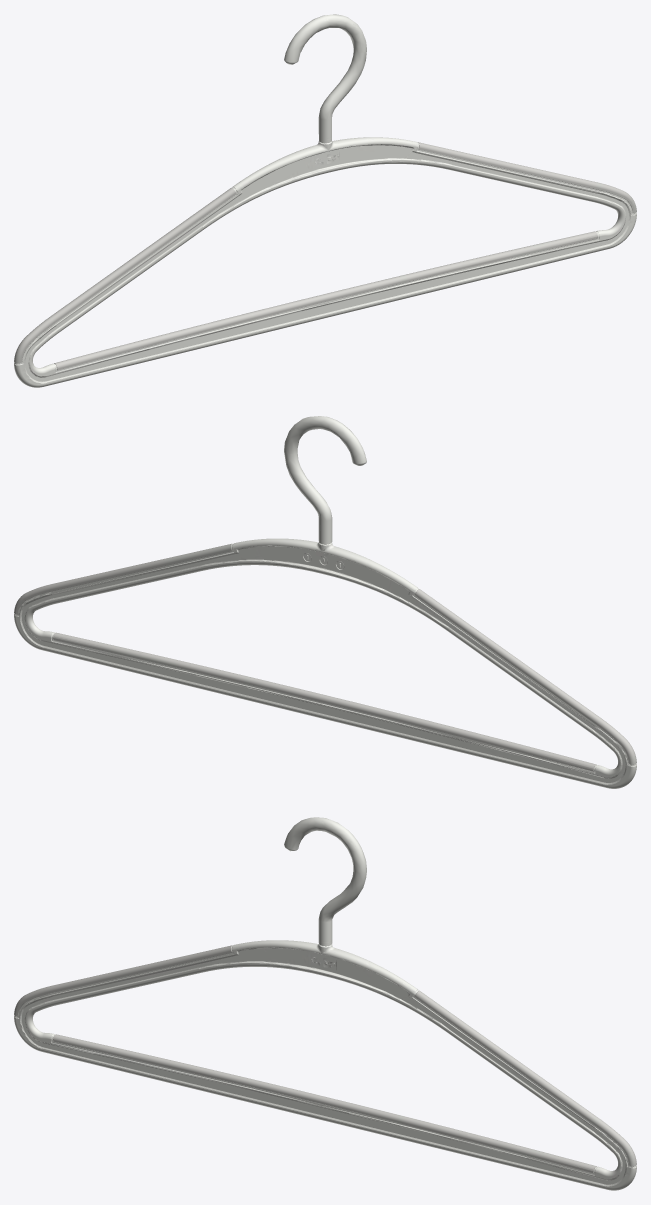
The model's file is trysse_wieszak_10515070.glb.
3 renders of one model, top to bottom at view 1: azimuth 30°, elevation 25°; view 2: azimuth 150°, elevation 25°; view 3: azimuth 330°, elevation 25°, orthographic.
Visible parts, largest first — view 1: trysse_wieszak_10515070; view 2: trysse_wieszak_10515070; view 3: trysse_wieszak_10515070.
Boxes of the visible parts, box(x1,y1,x2,y2) form: trysse_wieszak_10515070: box(14, 14, 636, 387); trysse_wieszak_10515070: box(14, 416, 636, 788); trysse_wieszak_10515070: box(14, 817, 636, 1190).
Bounding box in the file's own units: 0.42 × 0.1949 × 0.0079.
1 material, 1 textured.
